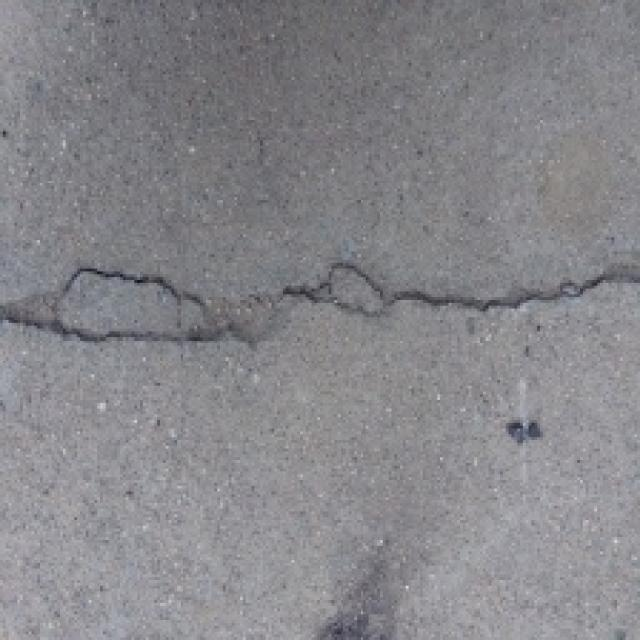crack: (0, 240, 640, 370)
